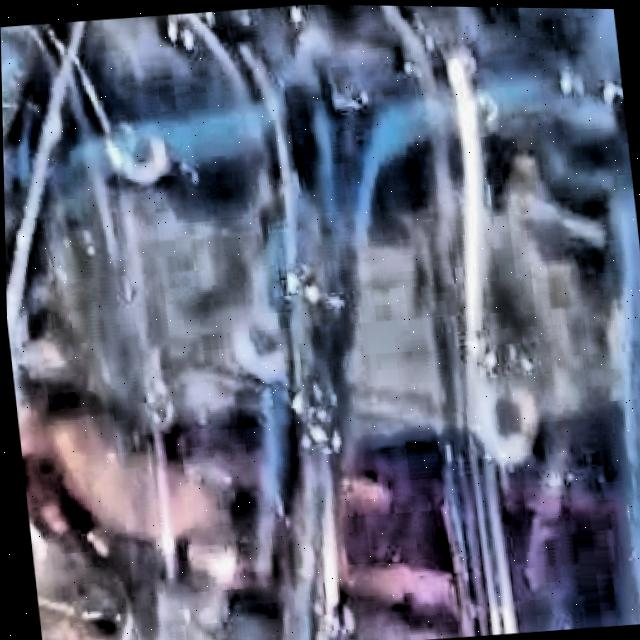plastic: (0, 4, 640, 640)
